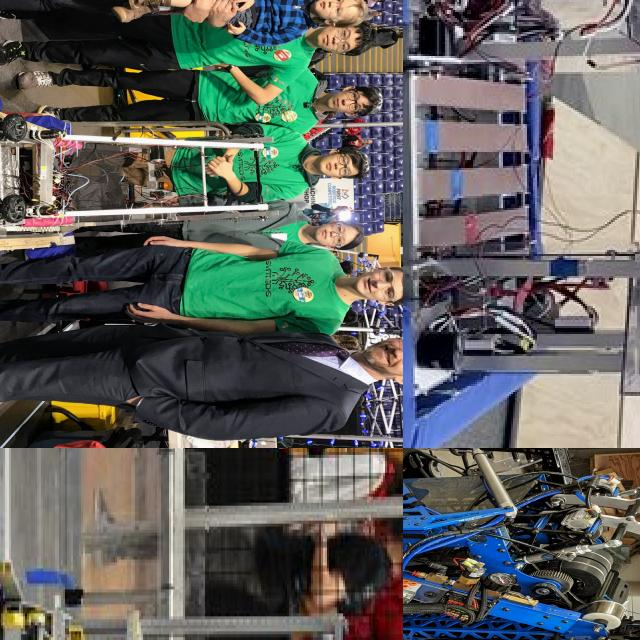FRC-Robots: (403, 0, 640, 448), (0, 78, 276, 274), (0, 511, 403, 640), (403, 488, 640, 640)
